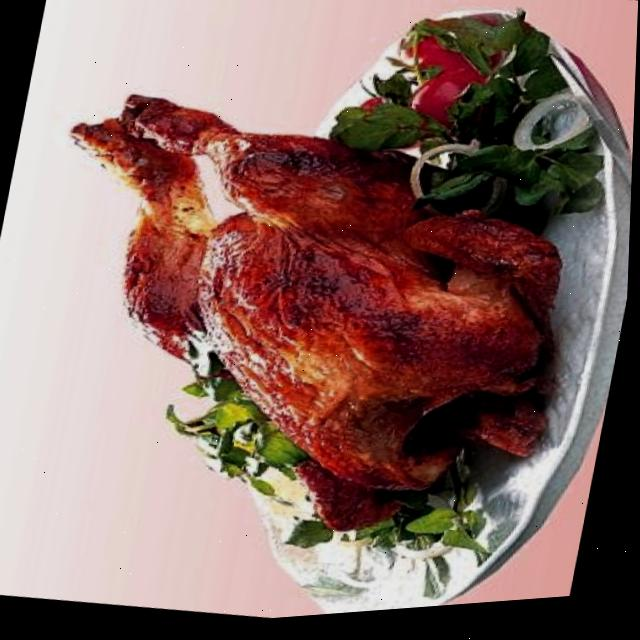鸡肉料理 含炸鸡: (8, 38, 627, 588)
